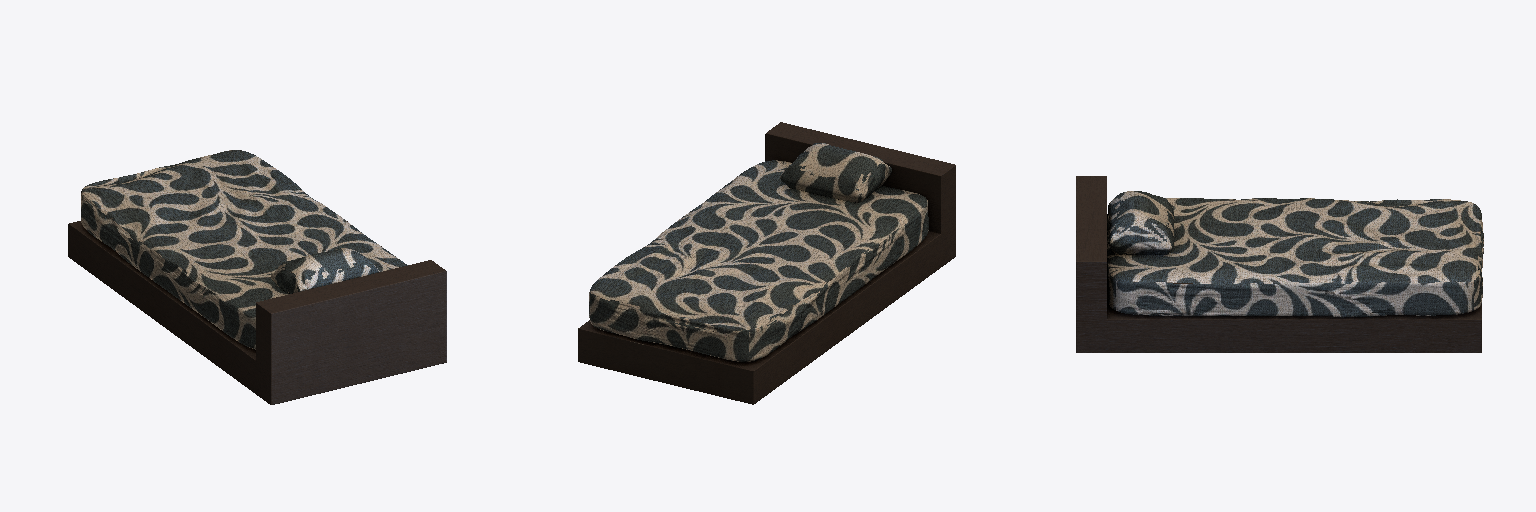
The picture shows the model from 3 angles: view 1: azimuth 30°, elevation 25°; view 2: azimuth 150°, elevation 25°; view 3: azimuth 270°, elevation 25°; orthographic projection.
Parts seen in each view (by area): view 1: Cube_Cube.001; view 2: Cube_Cube.001; view 3: Cube_Cube.001.
Part boxes in pixels (left/top/right/bottom): Cube_Cube.001: left=68, top=150, right=446, bottom=404; Cube_Cube.001: left=578, top=122, right=955, bottom=404; Cube_Cube.001: left=1076, top=176, right=1483, bottom=352.
Bounding box in the file's own units: 2.05 × 1.18 × 4.02.
1 materials, 1 textured.